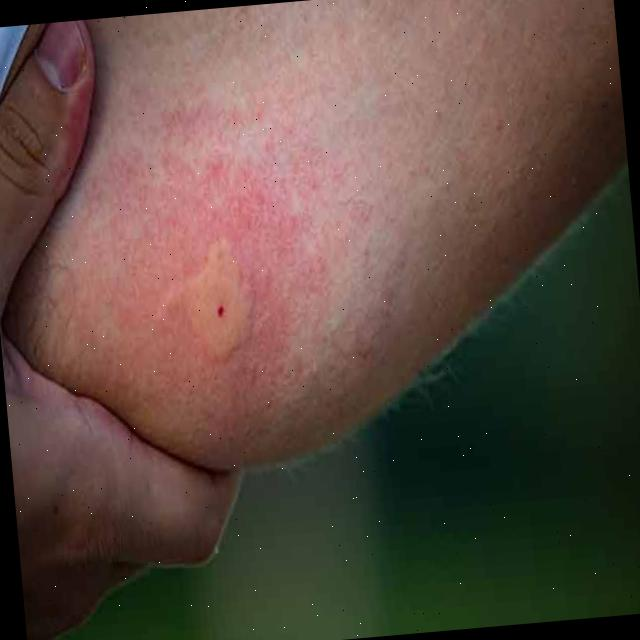sinek: (154, 215, 276, 393)
